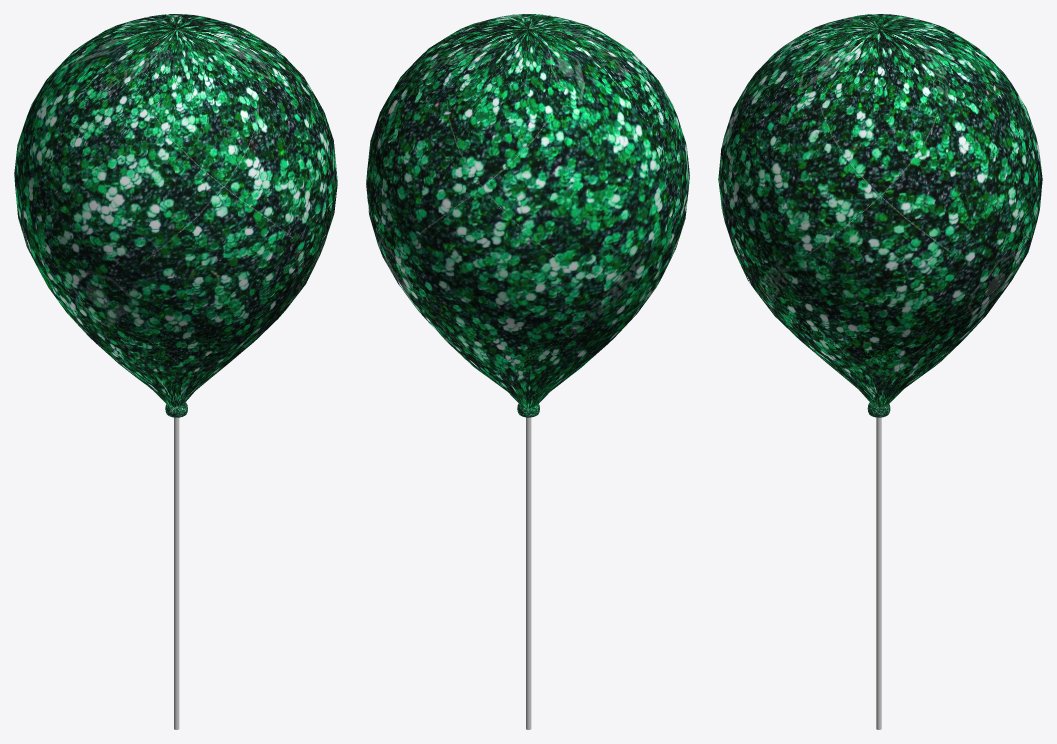
Rendered from balloon_green_3.glb.
The picture shows the model from 3 angles, left to right: view 1: azimuth 30°, elevation 25°; view 2: azimuth 150°, elevation 25°; view 3: azimuth 270°, elevation 25°; orthographic projection.
Parts seen in each view (by area): view 1: Sphere, Cylinder; view 2: Sphere, Cylinder; view 3: Sphere, Cylinder.
Part boxes in pixels (<box>): Sphere: <box>14,14,337,407</box>; Cylinder: <box>174,417,179,729</box>; Sphere: <box>366,14,689,407</box>; Cylinder: <box>526,417,531,729</box>; Sphere: <box>718,14,1042,407</box>; Cylinder: <box>876,417,881,729</box>.
Size of the model in its own units: 2 by 4.76 by 2.
Materials: 2 (2 with a texture image).
